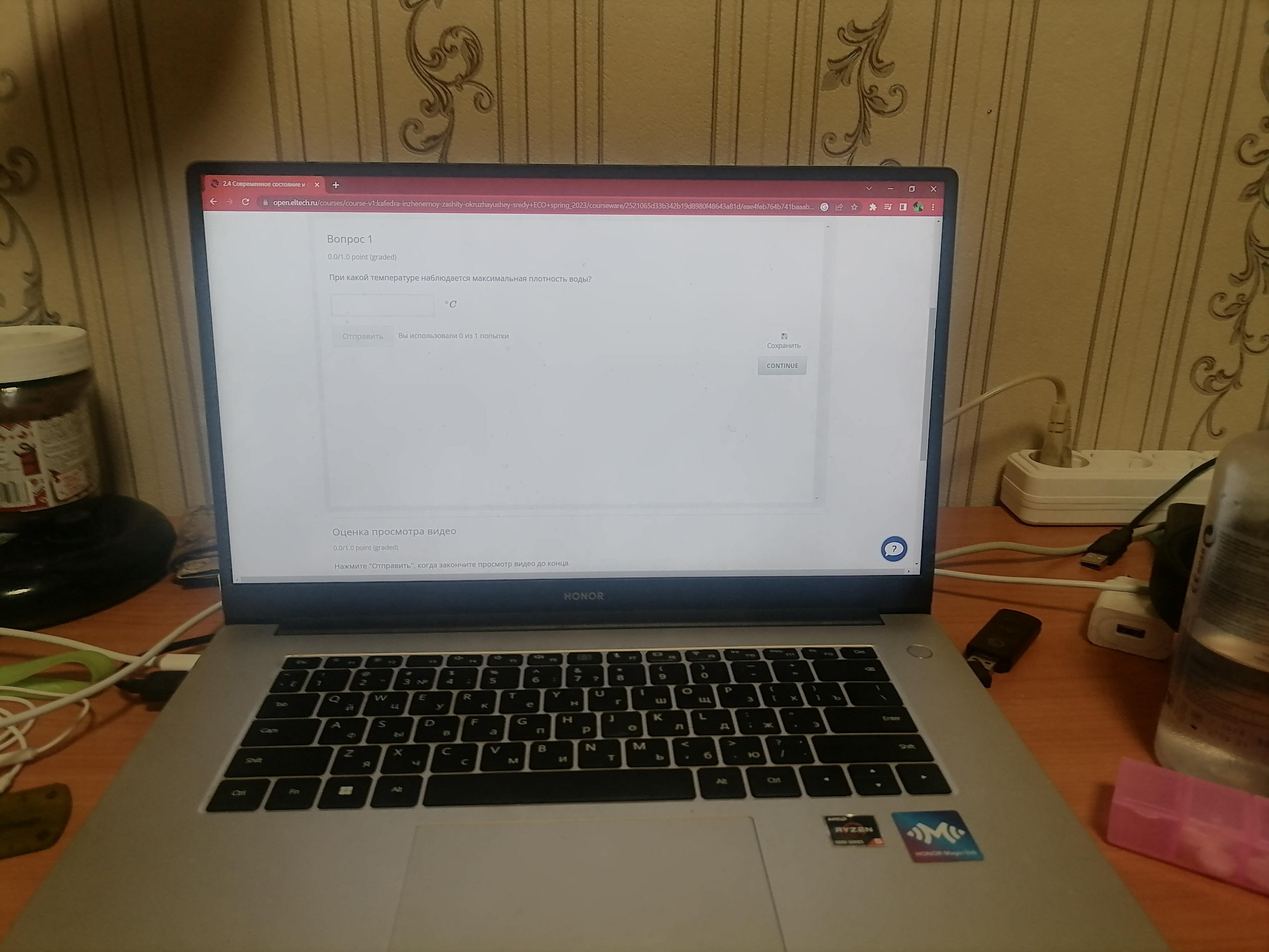monitor: (176, 151, 964, 635)
